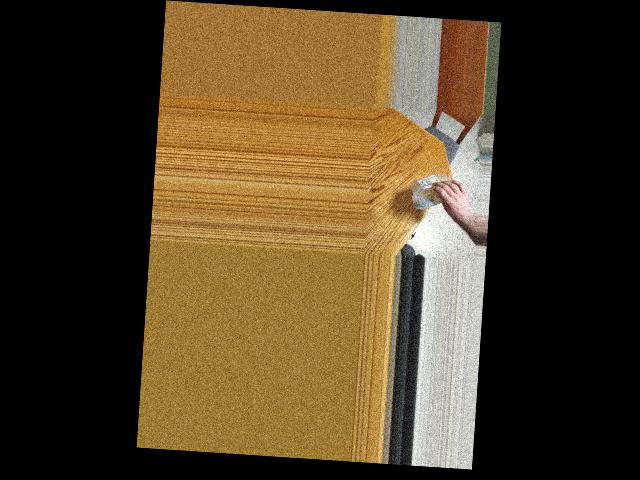cheese: (414, 174, 453, 206)
